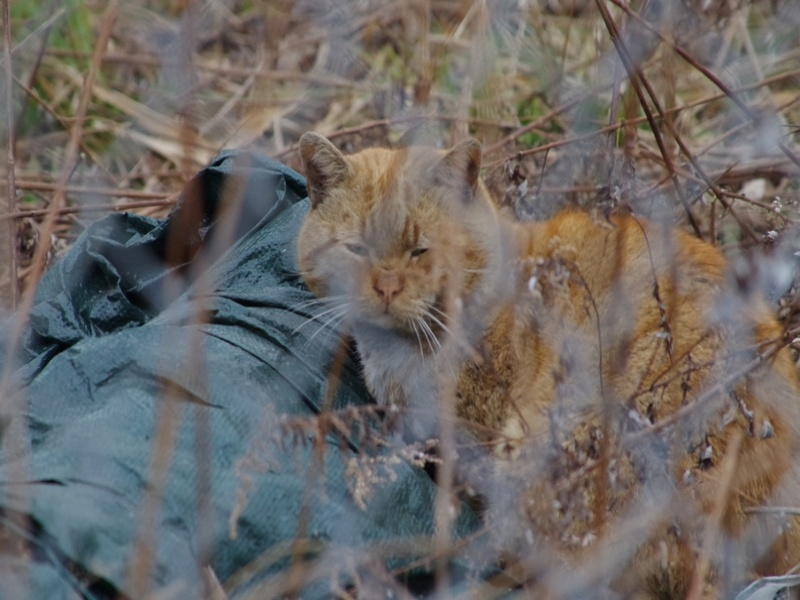cat: (293, 127, 800, 595)
